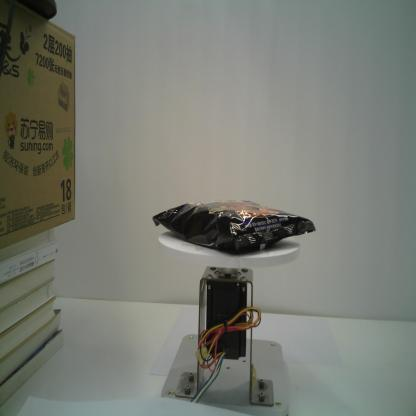Instant Noodles: (148, 198, 317, 257)
